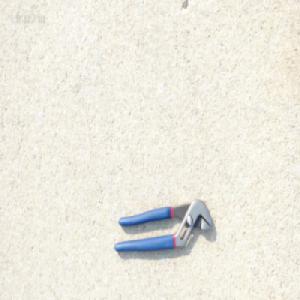Pliers: (113, 198, 216, 253)
